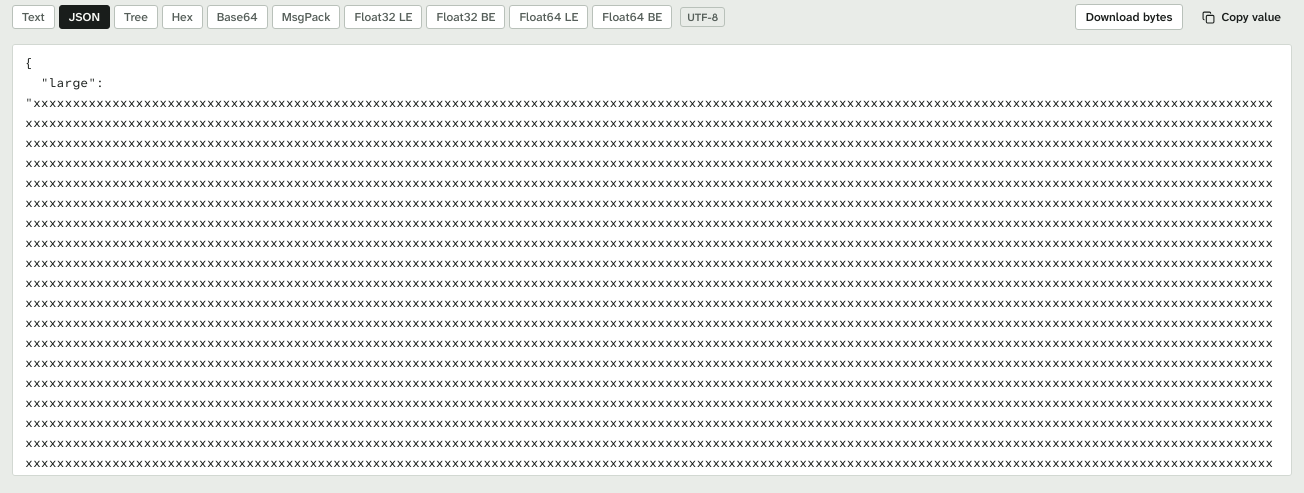
Test case: review regressions › parses a full JSON document above the text display cap
What coordinates should you click on to do the following:
click the tab "Tree"
I would click on:
 (136, 17)
Its box is [114,5,158,29].
(page scrolled)
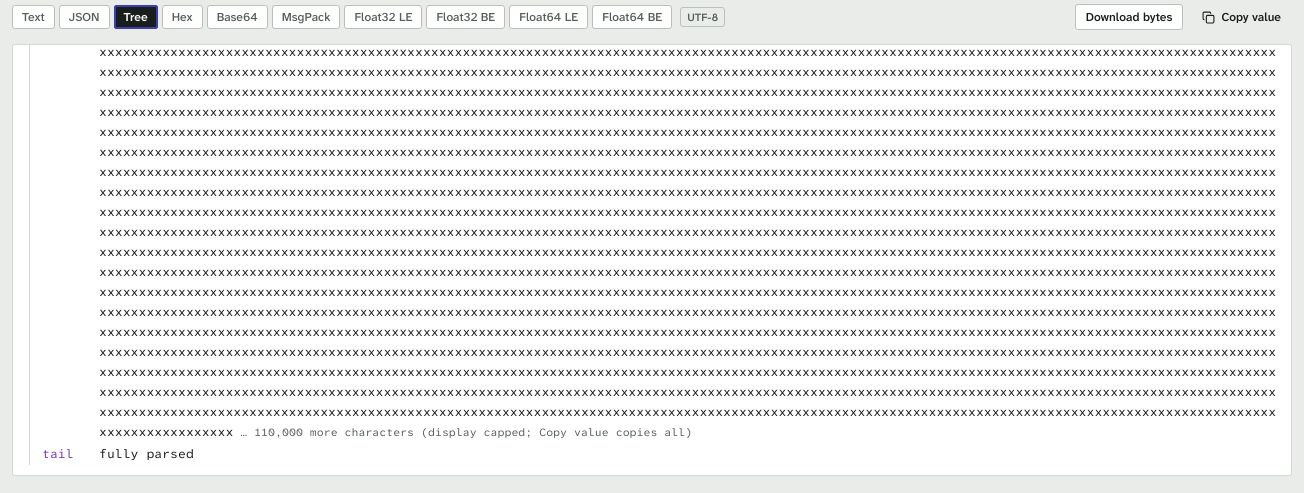
expect the text "fully parsed" is shown: met, box [99,444,194,464]
